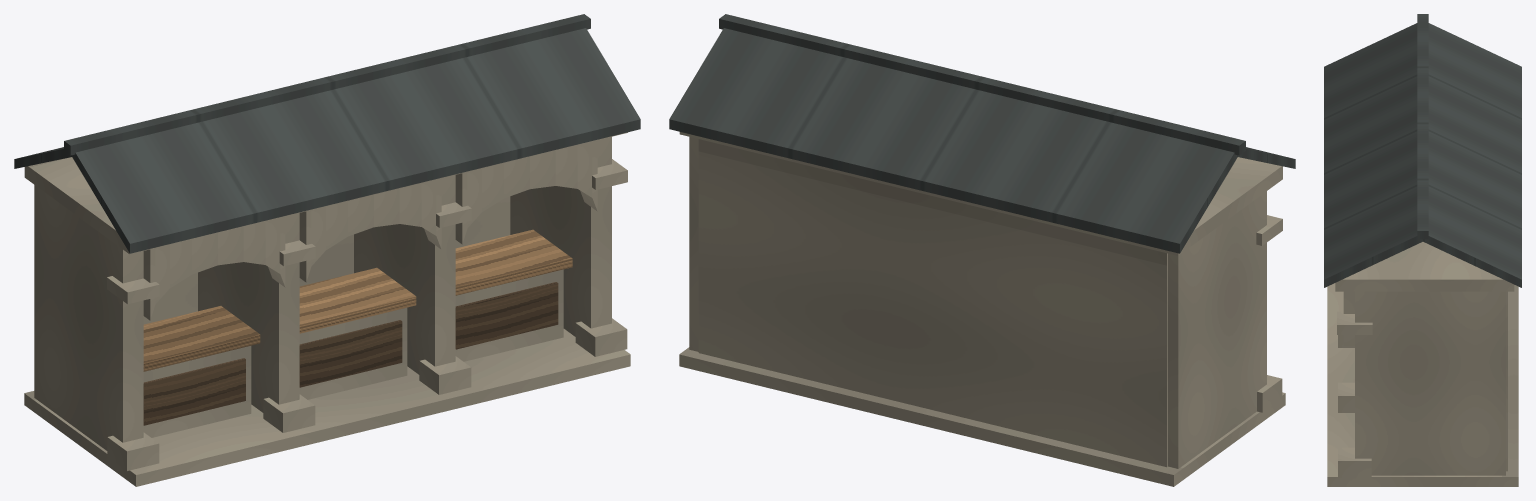
The picture shows the model from 3 angles, left to right: view 1: azimuth 30°, elevation 25°; view 2: azimuth 150°, elevation 25°; view 3: azimuth 270°, elevation 25°; orthographic projection. The views are drawn at different scales.
Visible parts, largest first — view 1: port-louis; view 2: port-louis; view 3: port-louis.
Part boxes in pixels (left/top/right/bottom): port-louis: left=14, top=14, right=640, bottom=486; port-louis: left=669, top=14, right=1295, bottom=486; port-louis: left=1324, top=14, right=1521, bottom=486.
Size of the model in its own units: 4.45 by 2.5 by 1.72.
1 material, 1 textured.
